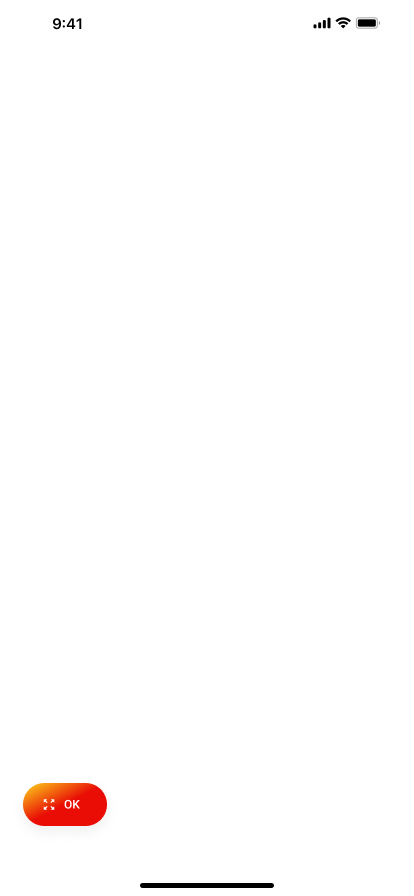Buttons: (8, 774, 122, 847)
Home Indicator: (0, 862, 414, 896)
Status Bar: (0, 0, 414, 44)
